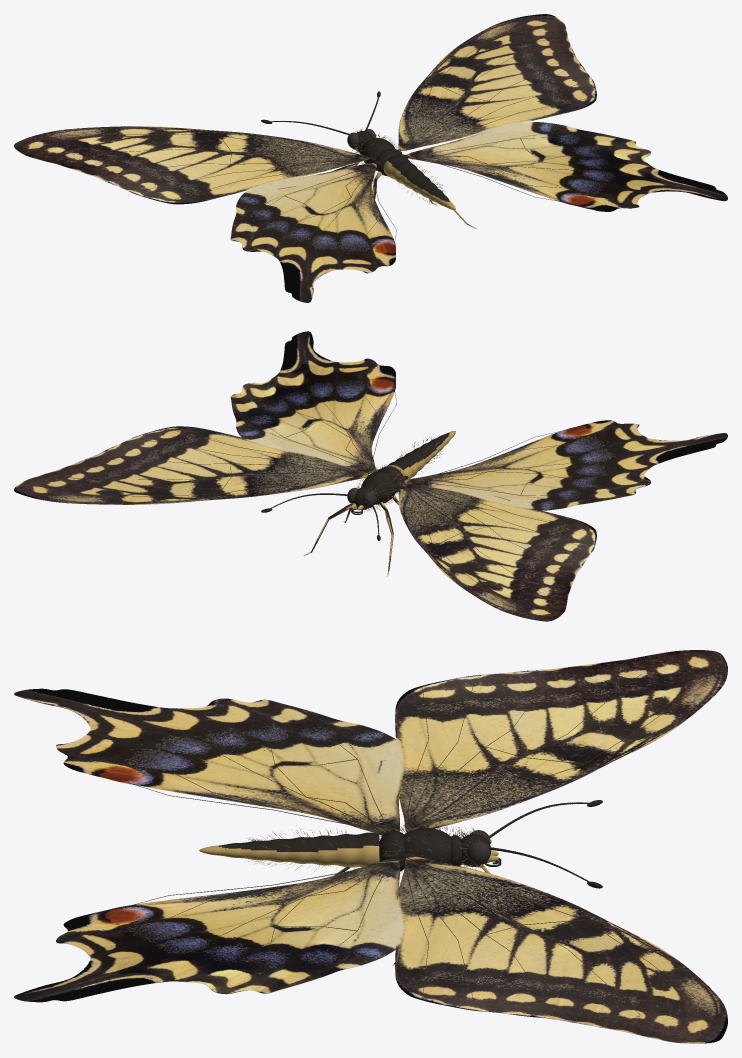
File: PapilioMachaon-Web-Compact.glb
3 renders of one model, top to bottom at view 1: azimuth 30°, elevation 25°; view 2: azimuth 150°, elevation 25°; view 3: azimuth 270°, elevation 25°, orthographic. The views are drawn at different scales.
Visible parts, largest first — view 1: L_forewing_dorsal, R_forewing_dorsal, R_hindwing_dorsal, L_hindwing_dorsal, Abdomen_eight_surface_segments, Structural_veins_L_fore, Structural_veins_R_fore, Structural_veins_R_hind, Structural_veins_L_hind, Mesothorax; view 2: L_forewing_dorsal, R_forewing_dorsal, R_hindwing_dorsal, L_hindwing_dorsal, Structural_veins_R_fore, Abdomen_eight_surface_segments, Structural_veins_L_fore, Structural_veins_L_hind, Mesothorax, Structural_veins_R_hind; view 3: R_forewing_dorsal, L_forewing_dorsal, L_hindwing_dorsal, R_hindwing_dorsal, Abdomen_eight_surface_segments, Structural_veins_L_fore, Structural_veins_R_fore, Mesothorax, Structural_veins_L_hind, Structural_veins_R_hind, Metathorax.
Boxes of the visible parts, <box> form: L_forewing_dorsal: <box>14,126,369,203</box>; R_forewing_dorsal: <box>398,14,596,150</box>; R_hindwing_dorsal: <box>406,122,727,211</box>; L_hindwing_dorsal: <box>230,163,395,302</box>; Abdomen_eight_surface_segments: <box>383,155,455,209</box>; Structural_veins_L_fore: <box>69,134,366,201</box>; Structural_veins_R_fore: <box>404,27,593,149</box>; Structural_veins_R_hind: <box>411,137,602,203</box>; Structural_veins_L_hind: <box>259,165,396,247</box>; Mesothorax: <box>361,138,395,170</box>; L_forewing_dorsal: <box>398,483,596,621</box>; R_forewing_dorsal: <box>14,426,368,504</box>; R_hindwing_dorsal: <box>230,331,395,473</box>; L_hindwing_dorsal: <box>405,420,727,510</box>; Structural_veins_R_fore: <box>64,429,366,497</box>; Abdomen_eight_surface_segments: <box>387,431,455,482</box>; Structural_veins_L_fore: <box>404,483,593,604</box>; Structural_veins_L_hind: <box>411,428,602,496</box>; Mesothorax: <box>362,471,397,504</box>; Structural_veins_R_hind: <box>259,384,396,471</box>; R_forewing_dorsal: <box>395,856,727,1043</box>; L_forewing_dorsal: <box>395,650,727,832</box>; L_hindwing_dorsal: <box>14,688,399,835</box>; R_hindwing_dorsal: <box>14,858,399,1001</box>; Abdomen_eight_surface_segments: <box>199,832,379,867</box>; Structural_veins_L_fore: <box>404,674,704,831</box>; Structural_veins_R_fore: <box>404,858,704,1014</box>; Mesothorax: <box>404,828,451,867</box>; Structural_veins_L_hind: <box>114,722,389,832</box>; Structural_veins_R_hind: <box>114,862,390,968</box>; Metathorax: <box>379,830,404,871</box>.
Size of the model in its own units: 0.0674 by 0.00873 by 0.0516.
Materials: 8 (2 with a texture image).
